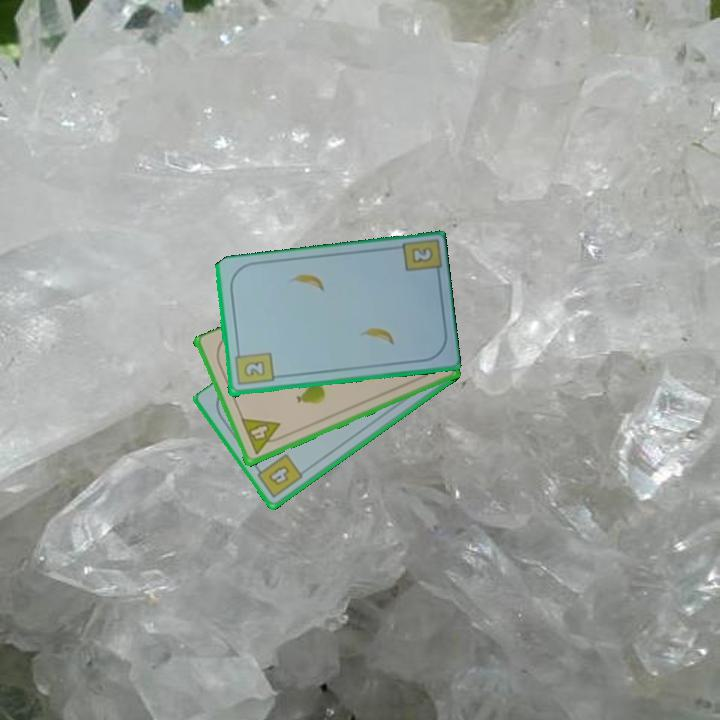2b: (231, 346, 276, 388), (408, 243, 436, 266)
4b: (251, 450, 306, 501)
4p: (238, 415, 287, 458)
